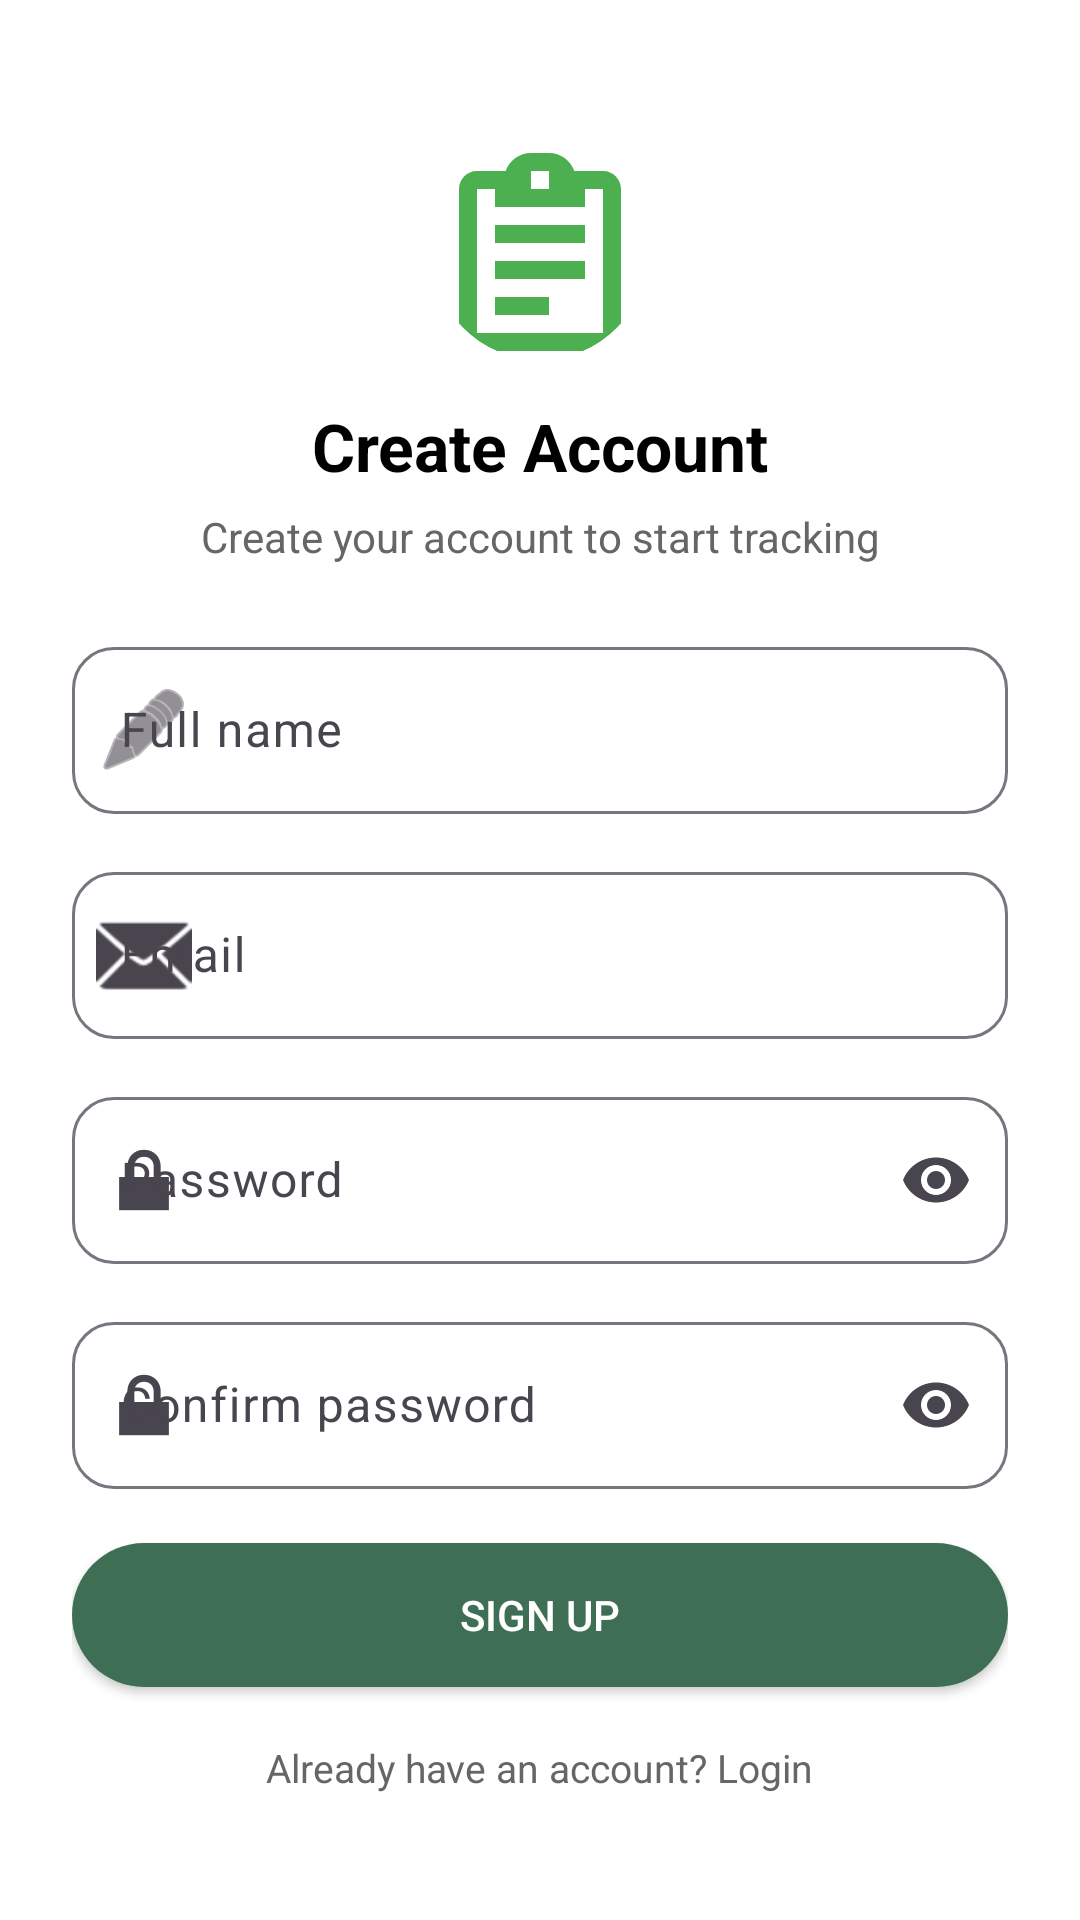

Where to tap for icons on this 1080x1920 app screen, as (x=x, y=y):
App icon: (x=540, y=252)
